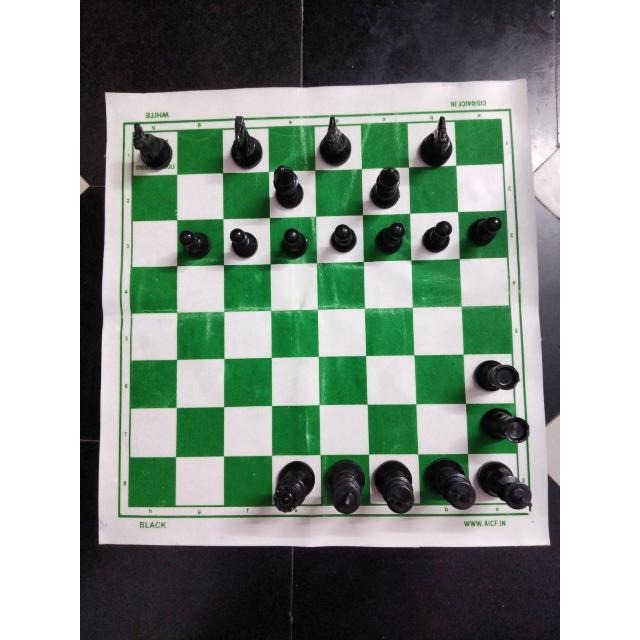black-bishop: (364, 164, 406, 210), (270, 163, 311, 209)
black-king: (420, 456, 479, 512), (477, 457, 533, 513), (369, 453, 417, 517), (320, 454, 367, 518)
black-knight: (409, 112, 461, 168), (221, 116, 265, 172), (126, 123, 174, 173), (313, 112, 355, 168)
black-pawn: (463, 209, 509, 256), (175, 220, 217, 264), (416, 212, 456, 258), (370, 215, 408, 261), (228, 220, 266, 264), (324, 215, 360, 260), (275, 226, 311, 260)
black-queen: (271, 453, 316, 514)
black-rook: (472, 406, 536, 450), (466, 353, 523, 399)
